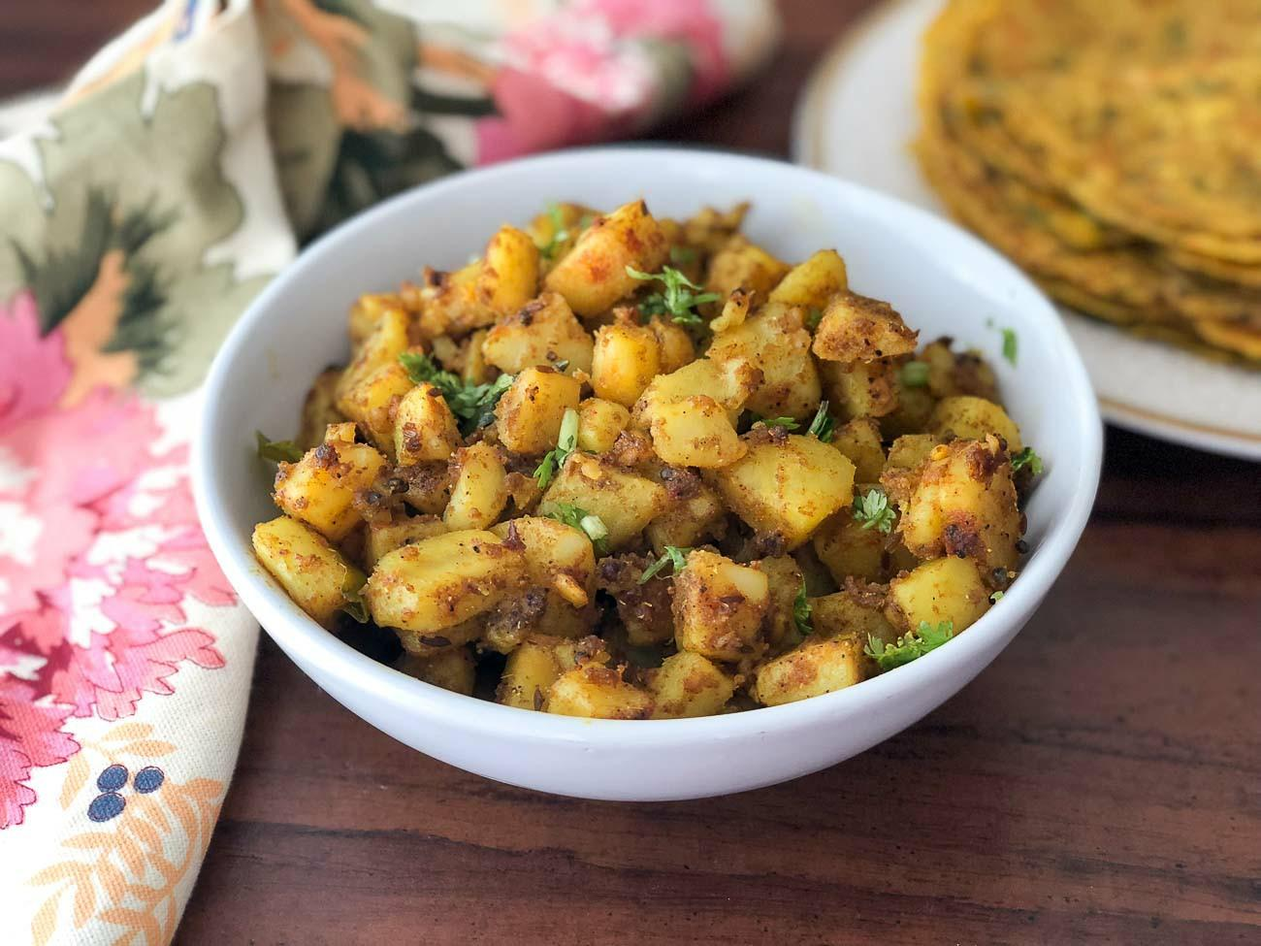AlooMasala: (255, 195, 1038, 721)
